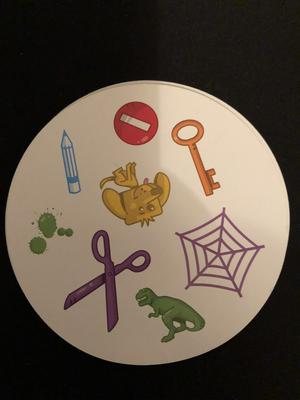chien: (98, 154, 173, 227)
ciseau: (63, 227, 153, 333)
crayon: (58, 127, 85, 197)
dinosore: (133, 284, 208, 345)
marteau: (170, 117, 220, 201)
sens_interdit: (112, 100, 161, 147)
tache: (25, 205, 76, 256)
toile: (174, 204, 267, 300)
